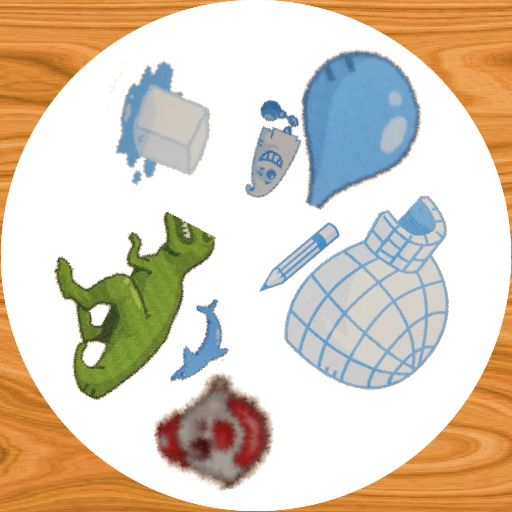clown_icon: (154, 372, 274, 492)
cube_icon: (101, 59, 239, 197)
dino_icon: (43, 212, 243, 412)
dolphin_icon: (155, 299, 246, 390)
ghost_icon: (219, 100, 322, 203)
igloo_icon: (271, 179, 487, 395)
pen_icon: (256, 215, 342, 301)
raindrop_icon: (265, 45, 435, 215)
